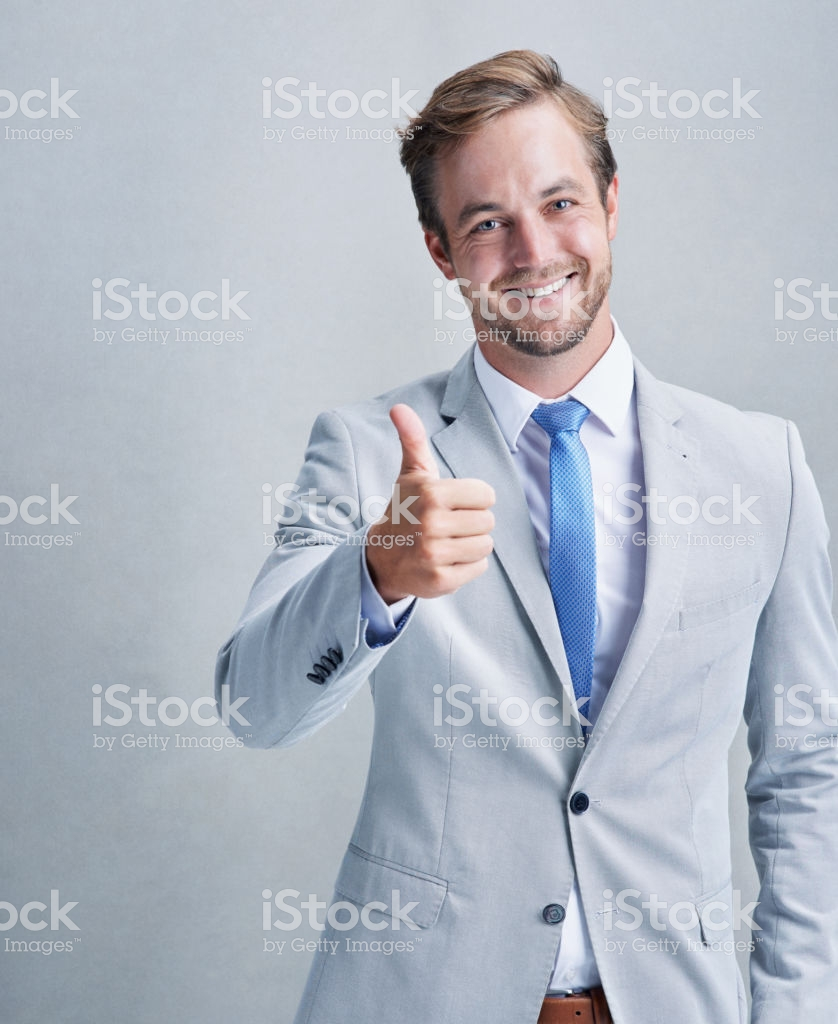thumbsup: (382, 401, 501, 600)
